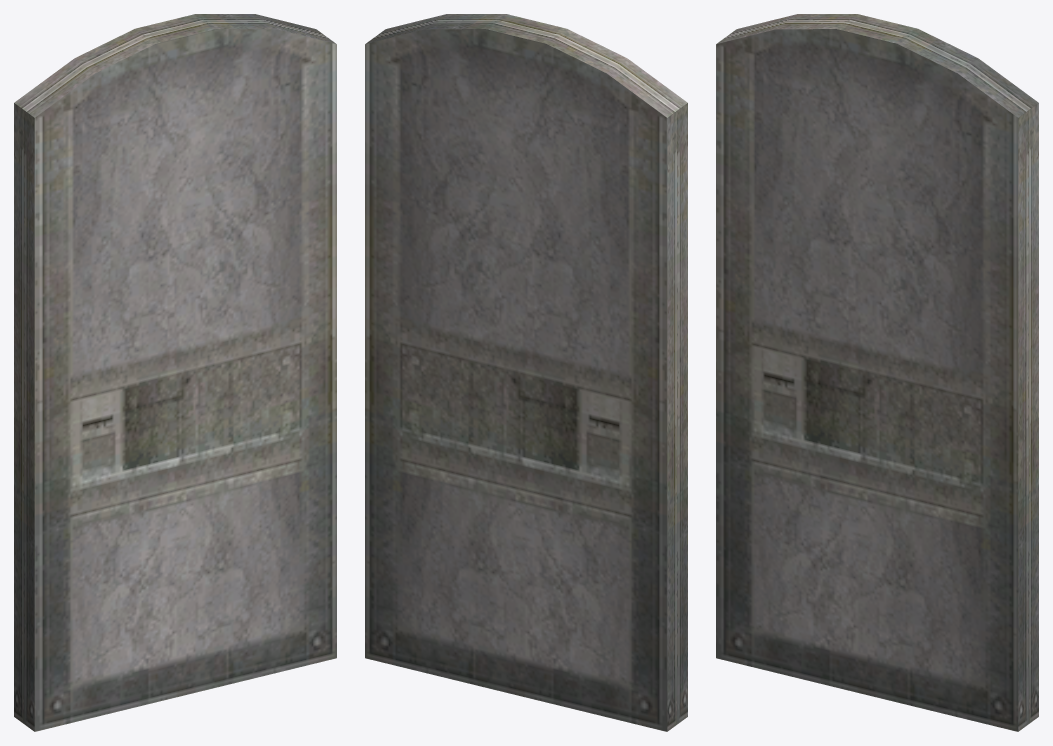
The model's file is door_corl_slum_s01_l0.fbx.
3 views of the same model, side by side, from view 1: azimuth 30°, elevation 25°; view 2: azimuth 150°, elevation 25°; view 3: azimuth 330°, elevation 25° (orthographic).
Visible parts, largest first — view 1: mesh_node; view 2: mesh_node; view 3: mesh_node.
Boxes of the visible parts, left/top/right/bottom form: mesh_node: left=14, top=14, right=336, bottom=731; mesh_node: left=365, top=14, right=687, bottom=731; mesh_node: left=716, top=14, right=1038, bottom=731.
Size of the model in its own units: 1.6 by 3.32 by 0.1889.
1 material, 1 textured.
